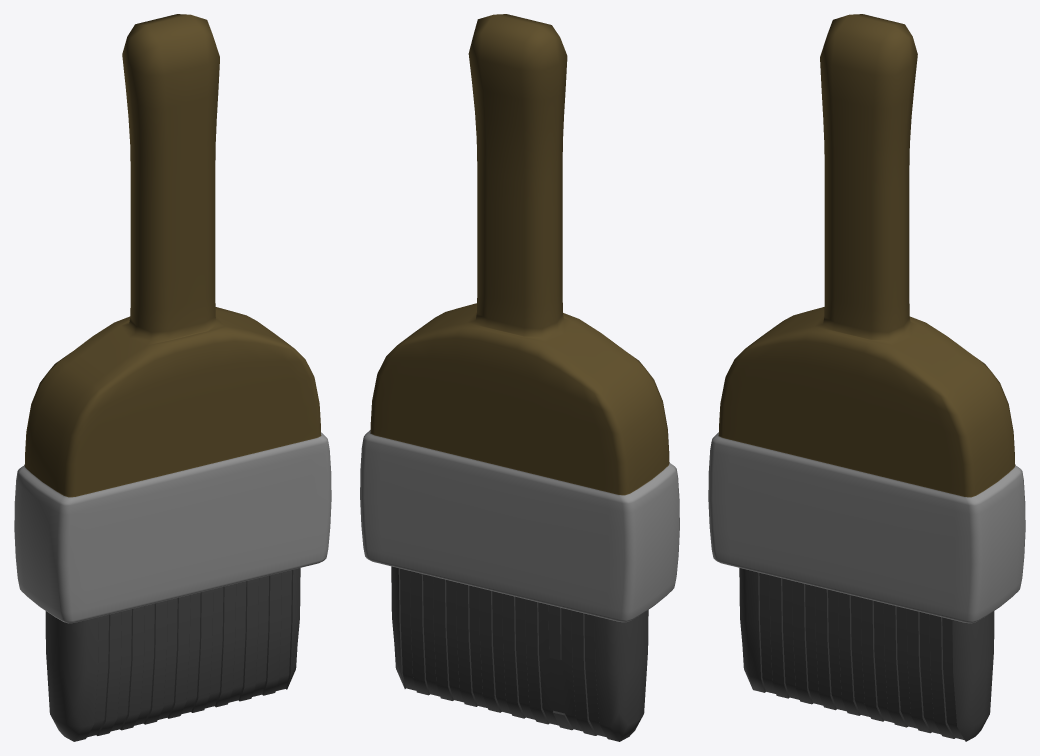
Rendered from brush.gltf.
3 renders of one model, left to right at view 1: azimuth 30°, elevation 25°; view 2: azimuth 150°, elevation 25°; view 3: azimuth 330°, elevation 25°, orthographic.
Parts seen in each view (by area): view 1: brush_body, brush_bristle; view 2: brush_body, brush_bristle; view 3: brush_body, brush_bristle.
Boxes of the visible parts, x1,y1,x2,y2 form: brush_body: (14,14,331,623); brush_bristle: (45,568,300,741); brush_body: (360,14,679,622); brush_bristle: (391,566,648,741); brush_body: (708,14,1025,623); brush_bristle: (739,568,994,741).
Bounding box in the file's own units: 0.0346 × 0.0816 × 0.0108.
